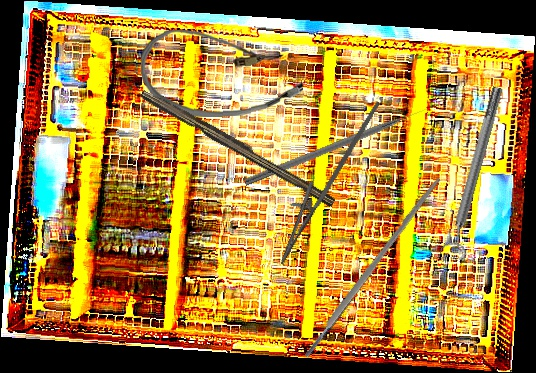Cannula: (140, 25, 304, 120)
Fixation Ring: (436, 83, 514, 262)
Hook Surgical: (243, 104, 430, 188)
Needle Holder: (266, 86, 381, 274)
Scalpel Handle: (301, 175, 443, 359), (137, 85, 340, 208)
